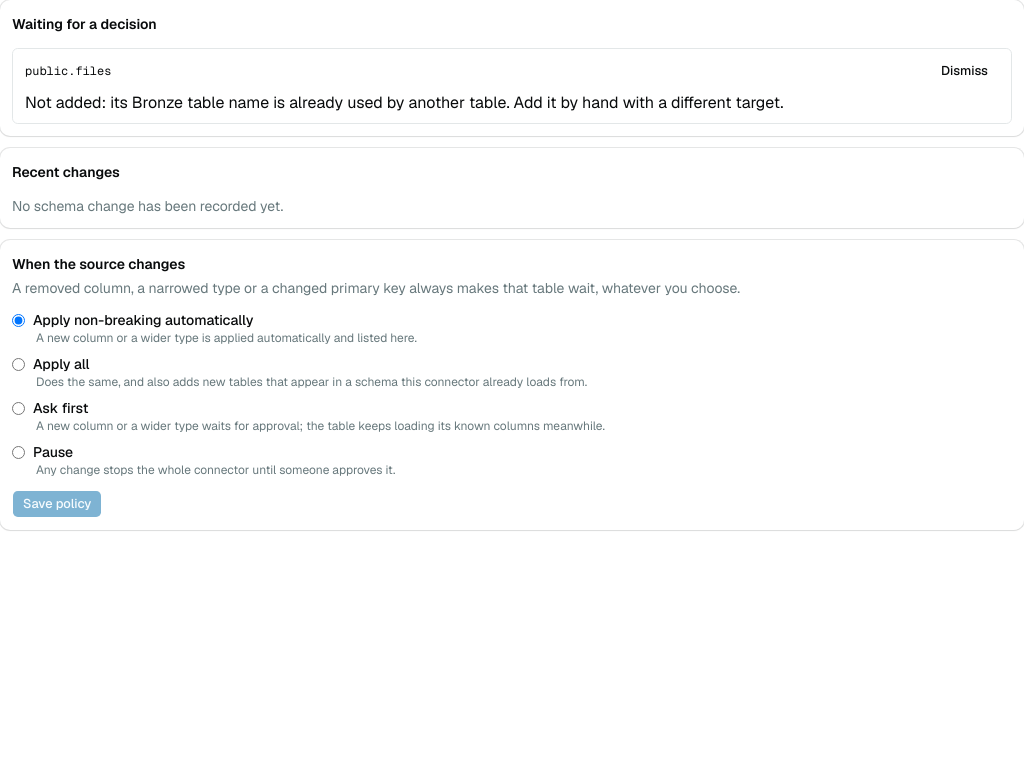
Test: ConnectorSchemaChangesPanel › shows a table that was not added as a notice with Dismiss, and does not count it as waiting
Expected: the text "Not added: its Bronze table name is already used by another table. Add it by hand with a different target." is shown, [25,92,784,113]
Click the button "Dismiss" at (964, 71), box [930,57,999,85]
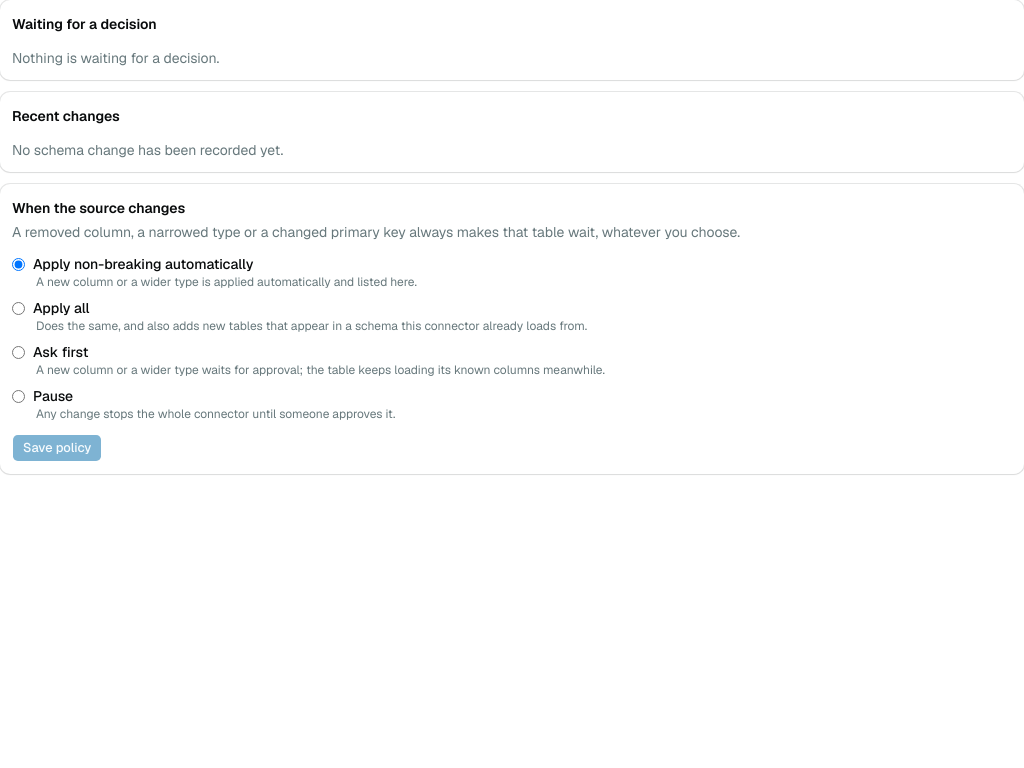
Result: the text "Nothing is waiting for a decision." is shown at [12,49,219,67]
